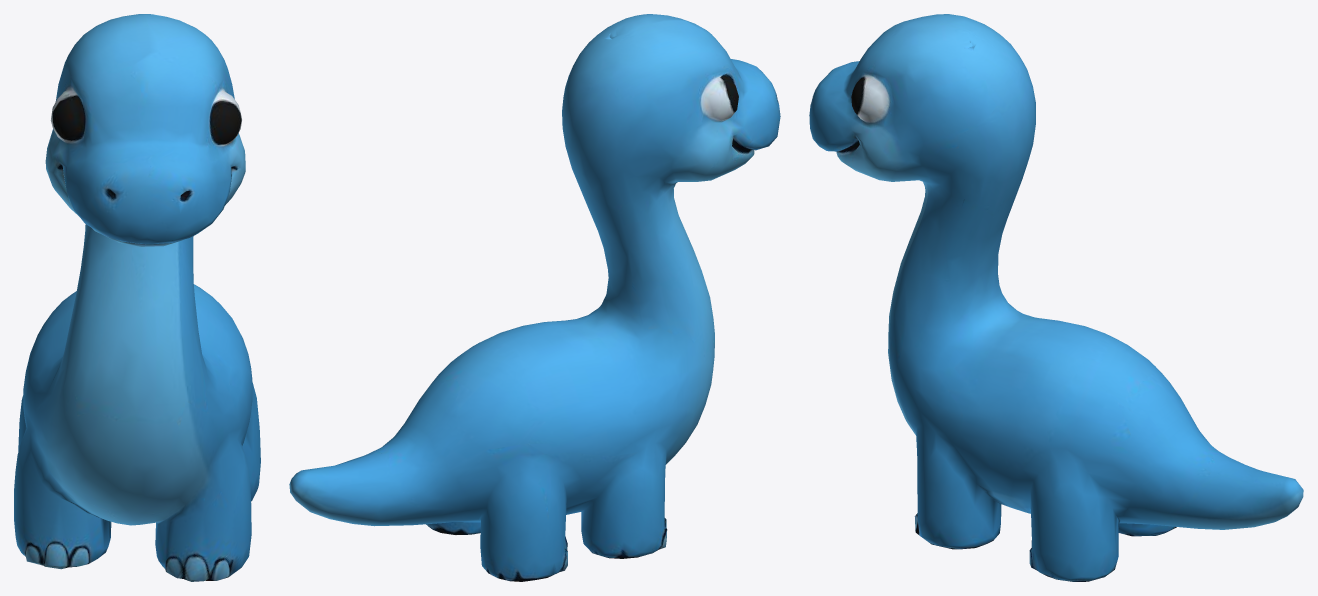
Rendered from dino-braqui.glb.
3 views of the same model, side by side, from view 1: azimuth 30°, elevation 25°; view 2: azimuth 150°, elevation 25°; view 3: azimuth 270°, elevation 25° (orthographic). The views are drawn at different scales.
Parts seen in each view (by area): view 1: tripo_node_06f59536-2c26-40bb-84fc-35988919b5ec; view 2: tripo_node_06f59536-2c26-40bb-84fc-35988919b5ec; view 3: tripo_node_06f59536-2c26-40bb-84fc-35988919b5ec.
Boxes of the visible parts, bbox=[...] form: tripo_node_06f59536-2c26-40bb-84fc-35988919b5ec: bbox=[14, 14, 260, 581]; tripo_node_06f59536-2c26-40bb-84fc-35988919b5ec: bbox=[289, 14, 780, 581]; tripo_node_06f59536-2c26-40bb-84fc-35988919b5ec: bbox=[809, 14, 1303, 581].
Bounding box in the file's own units: 0.5888 × 0.98 × 0.9023.
1 material, 1 textured.
